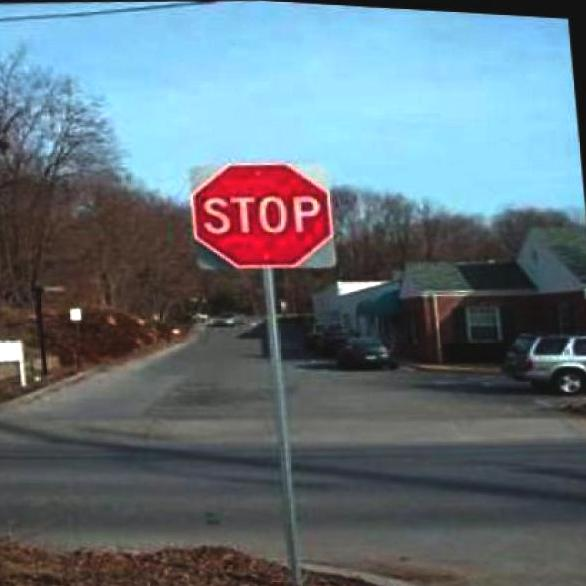stop_sign: (181, 136, 368, 298)
